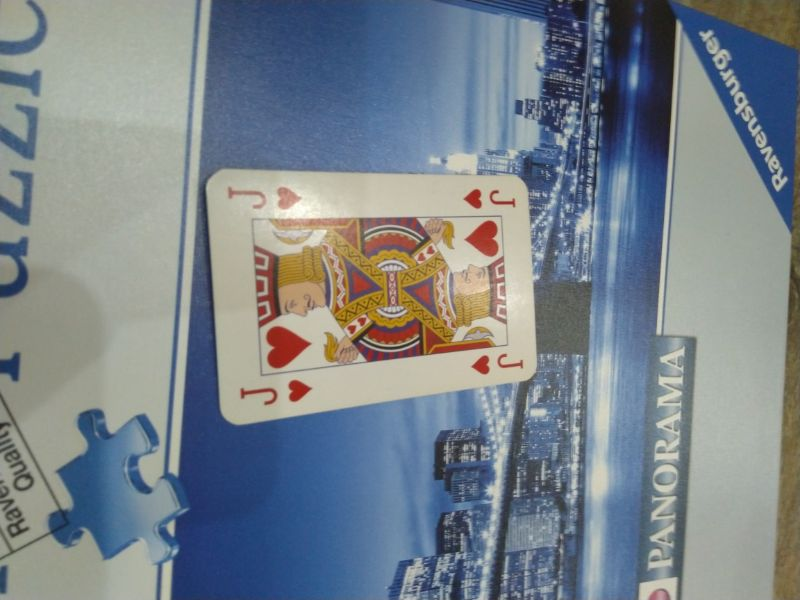Jh: (238, 376, 319, 409), (224, 181, 306, 213), (471, 349, 528, 377), (460, 185, 520, 211)
